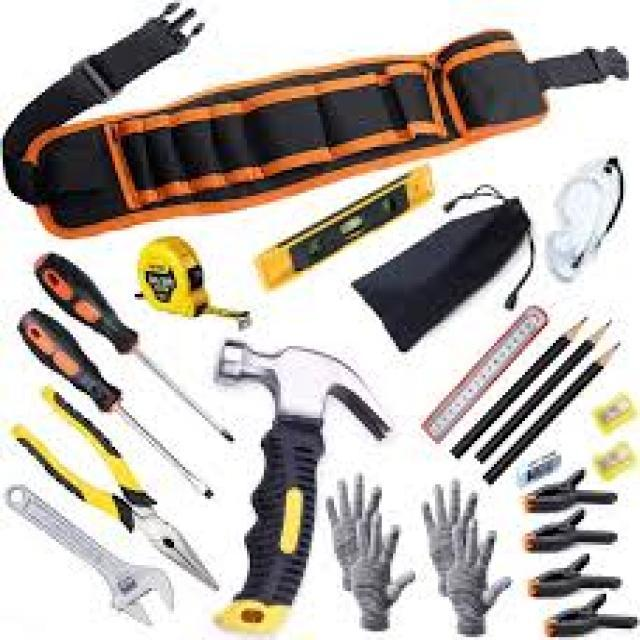hammer: (205, 337, 399, 640)
screwdriver: (11, 306, 228, 514), (28, 246, 239, 452)
